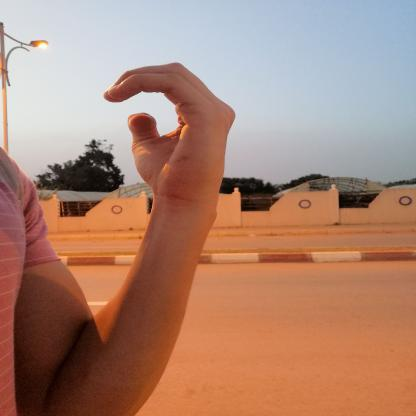JEEM: (87, 54, 253, 218)
